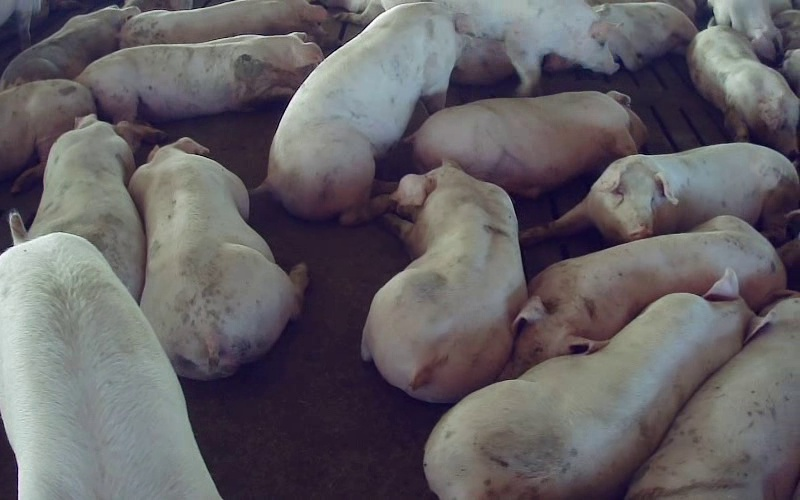pig: (424, 269, 767, 499), (0, 214, 218, 499), (258, 2, 468, 224), (500, 216, 785, 377), (129, 138, 307, 379), (361, 162, 526, 402), (627, 296, 799, 499), (520, 143, 799, 242), (410, 91, 646, 196), (76, 33, 322, 122), (441, 0, 618, 95), (687, 26, 799, 155), (0, 6, 139, 90), (0, 79, 95, 192), (120, 0, 327, 47)
